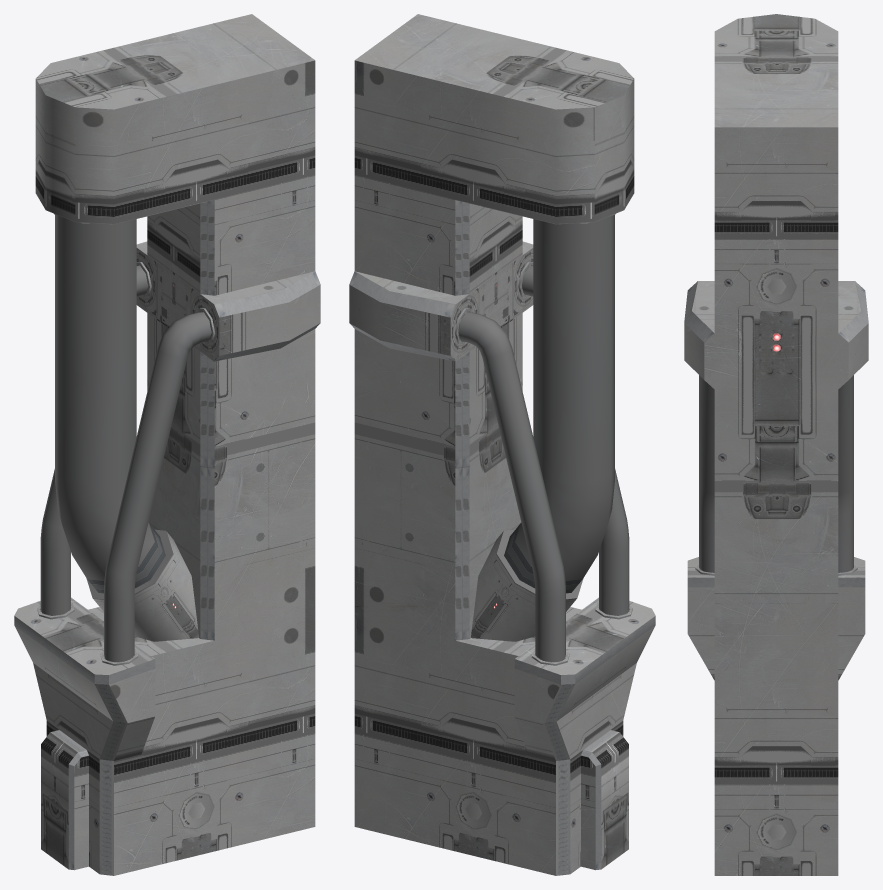
The model's file is SM_PillarComp2.fbx.
3 renders of one model, left to right at view 1: azimuth 30°, elevation 25°; view 2: azimuth 150°, elevation 25°; view 3: azimuth 270°, elevation 25°, orthographic. The views are drawn at different scales.
Visible parts, largest first — view 1: SM_PillarComp2_LOD0; view 2: SM_PillarComp2_LOD0; view 3: SM_PillarComp2_LOD0.
Part boxes in pixels (x1,y1,x2,y2): SM_PillarComp2_LOD0: (14, 14, 320, 875); SM_PillarComp2_LOD0: (349, 14, 655, 875); SM_PillarComp2_LOD0: (684, 14, 868, 875).
Size of the model in its own units: 130 by 89.38 by 400.
3 materials, 3 textured.
